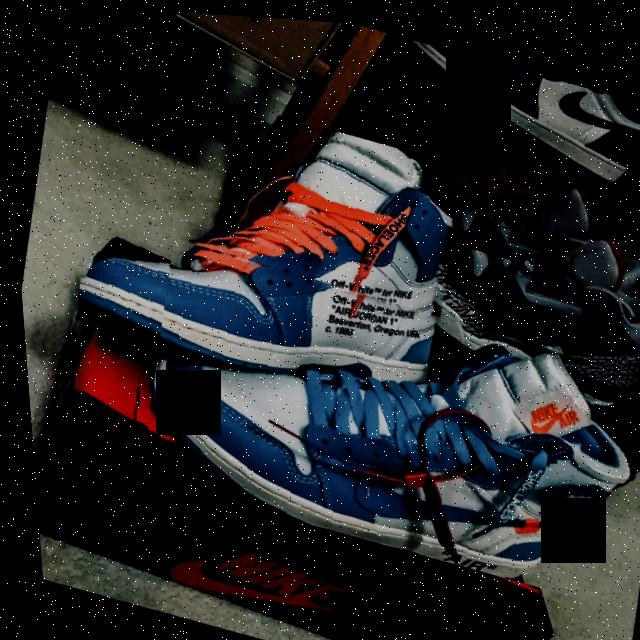shoe: (118, 233, 640, 604), (55, 65, 479, 414)
